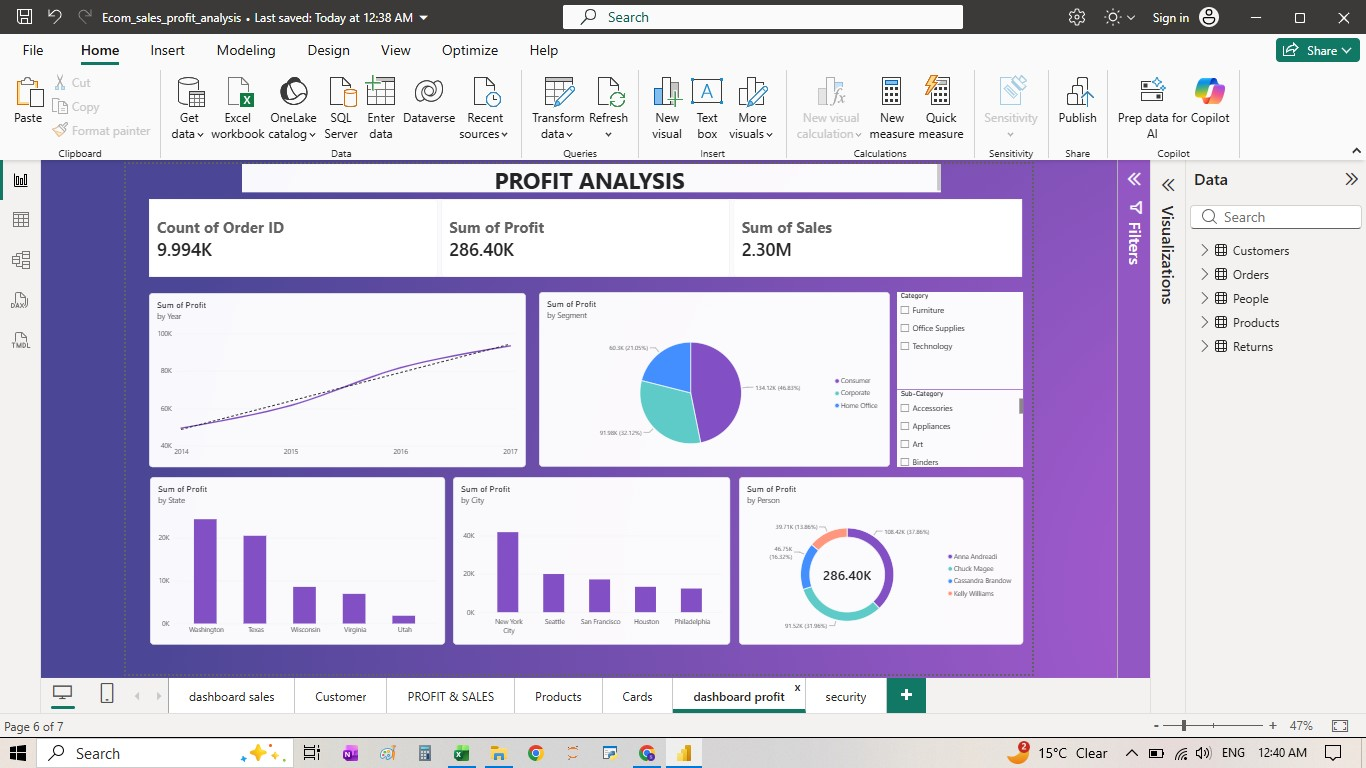

Layout of this report page (visuals, bound fields, positions):
{"tool":"powerbi","page":{"name":"dashboard profit","canvas":[1920,1080],"ordinal":5},"visuals":[{"type":"textbox","box":[246.7,0,1480.2,60.1],"z":0},{"type":"lineChart","fields":{"Category":["Orders.Order Date.Variation.Date Hierarchy.Year"],"Y":["Sum(Orders.Profit)"]},"box":[49.3,272.4,798,369],"z":1000},{"type":"columnChart","fields":{"Category":["Customers.State"],"Y":["Sum(Orders.Profit)"]},"box":[50.4,662.7,624.9,355.3],"z":2000},{"type":"cardVisual","fields":{"Data":["CountNonNull(Orders.Order ID)","Sum(Orders.Profit)","Sum(Orders.Sales)"]},"box":[49.3,75.1,1849.2,165.2],"z":3000},{"type":"pieChart","fields":{"Category":["Customers.Segment"],"Y":["Sum(Orders.Profit)"]},"box":[873.9,271.7,743.5,369.6],"z":4000},{"type":"columnChart","fields":{"Category":["Customers.City"],"Y":["Sum(Orders.Profit)"]},"box":[692.9,662.7,587.1,355.3],"z":5000},{"type":"donutChart","fields":{"Category":["People.Person"],"Y":["Sum(Orders.Profit)"]},"box":[1297.6,662.7,602.2,355.3],"z":6000},{"type":"slicer","fields":{"Values":["Products.Category"]},"box":[1632.1,272,266.7,206],"z":7000},{"type":"slicer","fields":{"Values":["Products.Sub-Category"]},"box":[1632,478,267,163],"z":8000}]}

Visuals, with their boxes on the page's 1920x1080 design canvas (x1, y1, x2, y2). These are canvas units, not pixel positions in the 1366x768 screenshot, which may show the page scaled, cropped or inside an application window:
textbox: {"left": 247, "top": 0, "right": 1727, "bottom": 60}
lineChart - Orders.Order Date.Variation.Date Hierarchy.Year x Sum(Orders.Profit): {"left": 49, "top": 272, "right": 847, "bottom": 641}
columnChart - Customers.State x Sum(Orders.Profit): {"left": 50, "top": 663, "right": 675, "bottom": 1018}
cardVisual - CountNonNull(Orders.Order ID) x Sum(Orders.Profit): {"left": 49, "top": 75, "right": 1898, "bottom": 240}
pieChart - Customers.Segment x Sum(Orders.Profit): {"left": 874, "top": 272, "right": 1617, "bottom": 641}
columnChart - Customers.City x Sum(Orders.Profit): {"left": 693, "top": 663, "right": 1280, "bottom": 1018}
donutChart - People.Person x Sum(Orders.Profit): {"left": 1298, "top": 663, "right": 1900, "bottom": 1018}
slicer - Products.Category: {"left": 1632, "top": 272, "right": 1899, "bottom": 478}
slicer - Products.Sub-Category: {"left": 1632, "top": 478, "right": 1899, "bottom": 641}
